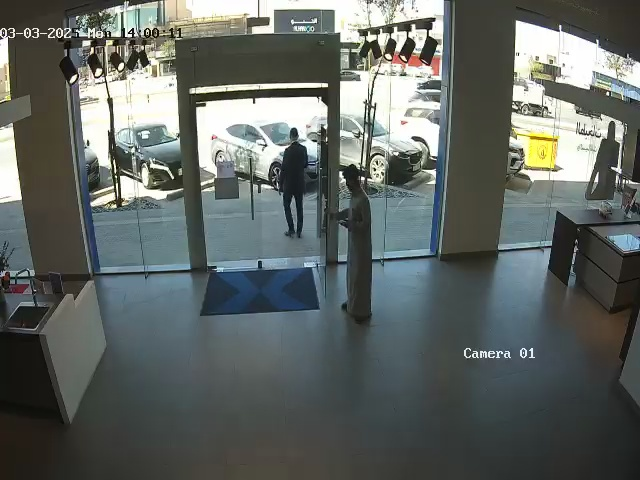employee: (278, 127, 309, 239)
male: (324, 164, 373, 323)
